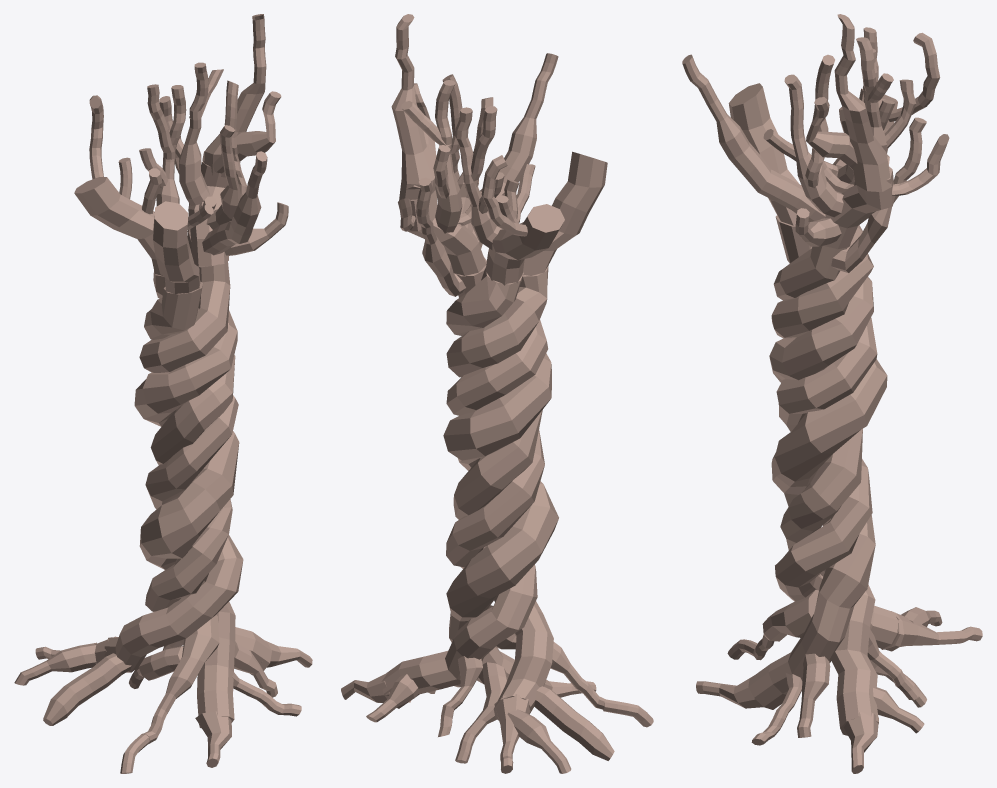
Rendered from smalltree.glb.
The picture shows the model from 3 angles, left to right: view 1: azimuth 30°, elevation 25°; view 2: azimuth 150°, elevation 25°; view 3: azimuth 270°, elevation 25°; orthographic projection. The views are drawn at different scales.
Parts seen in each view (by area): view 1: group1404951957, group1213844220, group795776490, group1261207293, group1403328660, group673027462, group1914748314, group266532939, group1289544321, group1327754474, group1327542212, group1941225610 (+14 smaller); view 2: group1213844220, group795776490, group1404951957, group1327754474, group1261207293, group1403328660, group1289544321, group266532939, group1327542212, group1914748314, group216703636, group1888991284 (+15 smaller); view 3: group1213844220, group795776490, group1404951957, group1289544321, group1327754474, group1261207293, group1941225610, group216703636, group1327542212, group673027462, group496604433, group1235778771 (+14 smaller).
Part boxes in pixels (x1=…): group1404951957: x1=104, y1=261, x2=243, y2=672; group1213844220: x1=134, y1=270, x2=239, y2=728; group795776490: x1=144, y1=281, x2=271, y2=675; group1261207293: x1=153, y1=201, x2=200, y2=294; group1403328660: x1=74, y1=177, x2=165, y2=282; group673027462: x1=141, y1=615, x2=219, y2=744; group1914748314: x1=179, y1=62, x2=209, y2=205; group266532939: x1=43, y1=653, x2=131, y2=725; group1289544321: x1=202, y1=151, x2=267, y2=255; group1327754474: x1=204, y1=14, x2=266, y2=177; group1327542212: x1=188, y1=161, x2=228, y2=266; group1941225610: x1=206, y1=125, x2=241, y2=229; group1213844220: x1=443, y1=267, x2=558, y2=684; group795776490: x1=381, y1=265, x2=548, y2=708; group1404951957: x1=446, y1=257, x2=553, y2=720; group1327754474: x1=391, y1=14, x2=435, y2=200; group1261207293: x1=523, y1=151, x2=607, y2=275; group1403328660: x1=485, y1=204, x2=564, y2=285; group1289544321: x1=467, y1=53, x2=558, y2=248; group266532939: x1=534, y1=686, x2=614, y2=760; group1327542212: x1=408, y1=190, x2=486, y2=275; group1914748314: x1=435, y1=80, x2=462, y2=233; group216703636: x1=416, y1=177, x2=465, y2=296; group1888991284: x1=455, y1=107, x2=502, y2=249; group1213844220: x1=748, y1=225, x2=887, y2=709; group795776490: x1=769, y1=215, x2=878, y2=735; group1404951957: x1=773, y1=243, x2=903, y2=651; group1289544321: x1=682, y1=54, x2=825, y2=222; group1327754474: x1=834, y1=14, x2=891, y2=191; group1261207293: x1=728, y1=83, x2=809, y2=225; group1941225610: x1=784, y1=74, x2=843, y2=217; group216703636: x1=831, y1=117, x2=926, y2=272; group1327542212: x1=824, y1=166, x2=894, y2=249; group673027462: x1=753, y1=589, x2=818, y2=660; group496604433: x1=806, y1=97, x2=889, y2=169; group1235778771: x1=797, y1=653, x2=830, y2=737.
Bounding box in the file's own units: 0.25 × 0.6116 × 0.2253.
